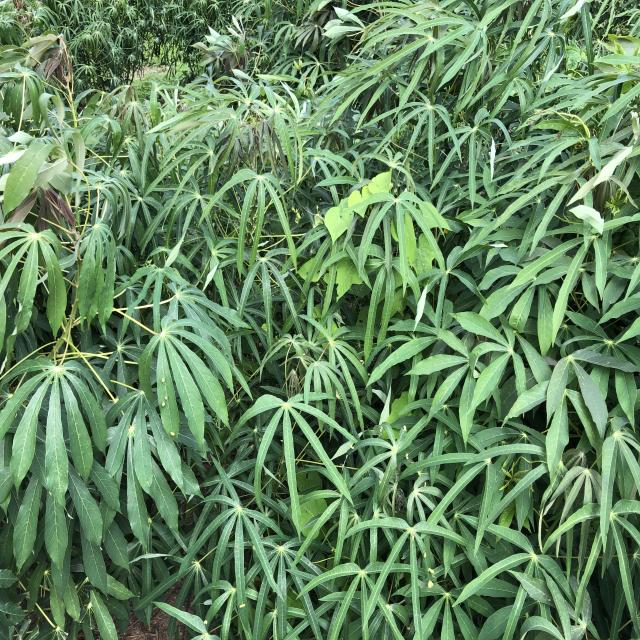Mosca: (423, 565, 441, 595), (410, 547, 437, 563), (395, 450, 414, 470), (157, 392, 171, 414), (234, 597, 251, 614), (196, 614, 212, 632), (164, 429, 178, 447), (441, 422, 454, 441), (150, 374, 165, 387)
